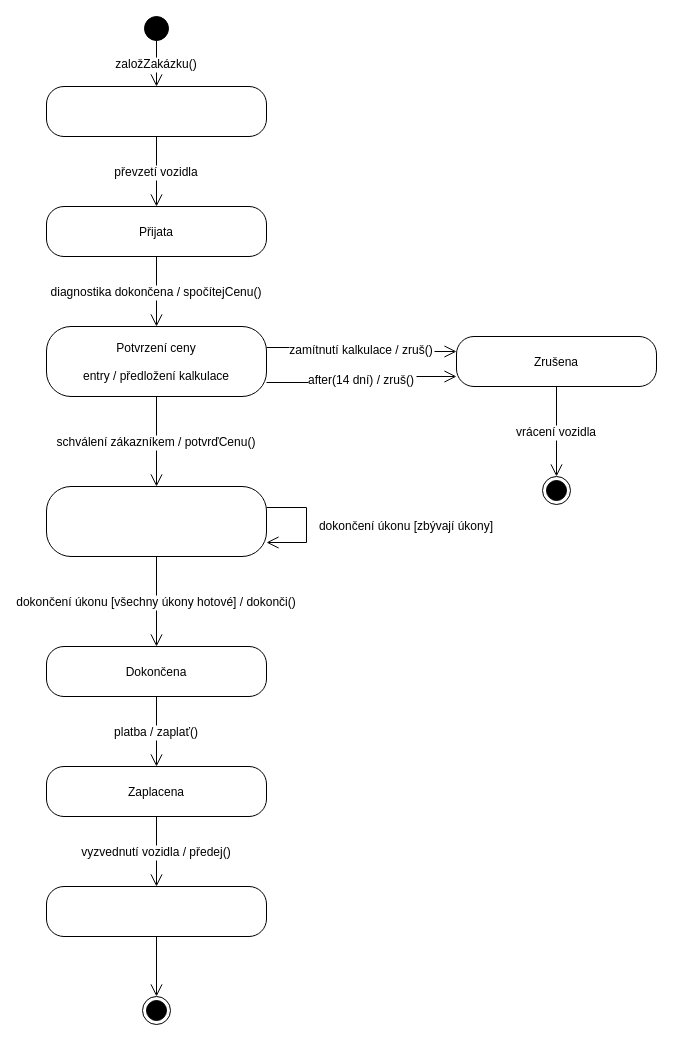
This 673x1041 diagram has some shape labels left out. The shapes that lost their labels are listed below. From the top down, each one's centre as x and y in pixels, then its label:
At pixel 156 111: "Vytvořena".
At pixel 156 521: "V opravě do / provádění úkonů".
At pixel 156 911: "Předána".
